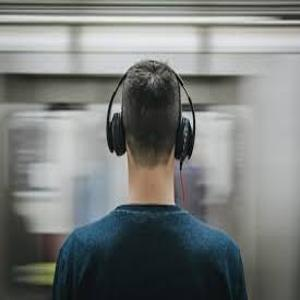Headphones: (104, 58, 197, 161)
